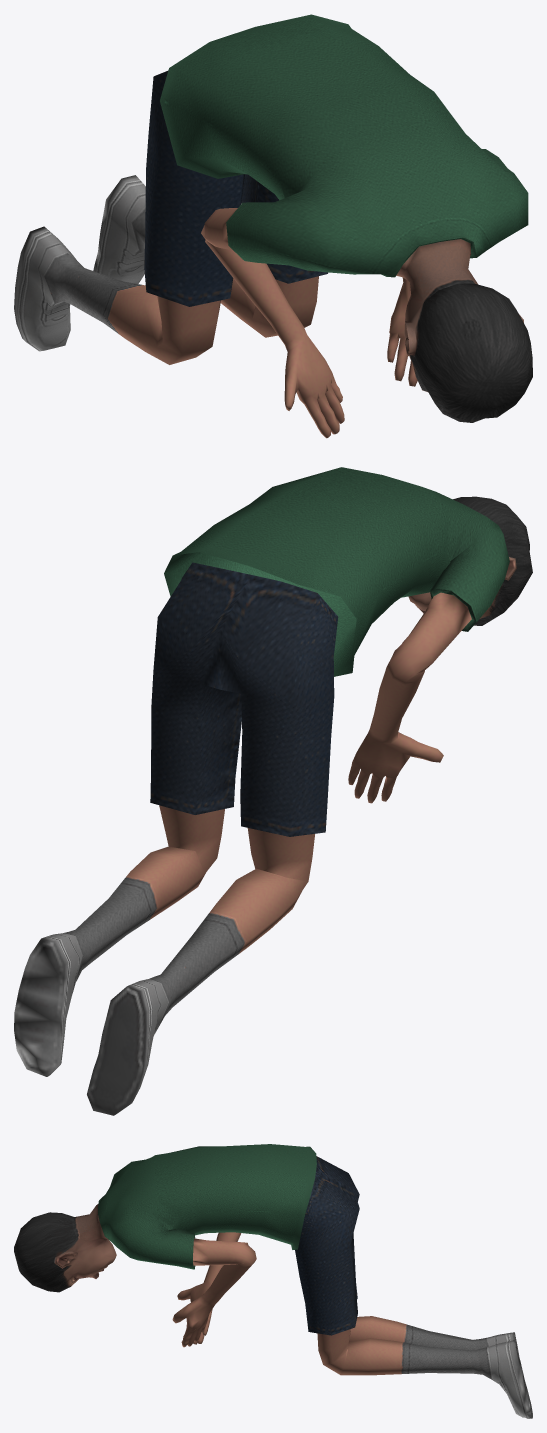
File: VisitorKidSit.obj
3 views of the same model, one above another, from view 1: azimuth 30°, elevation 25°; view 2: azimuth 150°, elevation 25°; view 3: azimuth 270°, elevation 25° (orthographic). The views are drawn at different scales.
Visible parts, largest first — view 1: VisitorKidSit_VisitorKid.001; view 2: VisitorKidSit_VisitorKid.001; view 3: VisitorKidSit_VisitorKid.001.
Boxes of the visible parts, x1,y1,x2,y2 form: VisitorKidSit_VisitorKid.001: (14, 14, 532, 438); VisitorKidSit_VisitorKid.001: (14, 467, 532, 1115); VisitorKidSit_VisitorKid.001: (14, 1144, 532, 1418).
Size of the model in its own units: 0.3084 by 0.4953 by 0.8759.
1 material, 1 textured.
